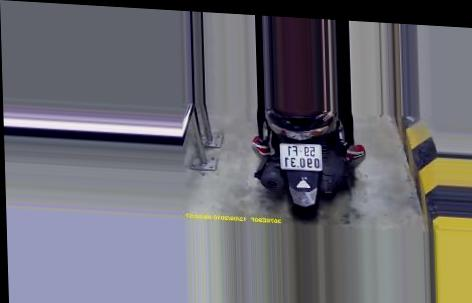License_Plate: (278, 139, 327, 173)
